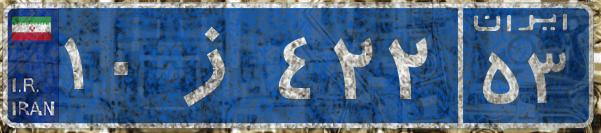0: (110, 28, 158, 105)
1: (57, 26, 110, 107)
2: (385, 28, 445, 110), (330, 28, 385, 110)
3: (525, 38, 570, 115)
4: (273, 28, 330, 110)
5: (475, 38, 525, 113)
ز: (158, 15, 273, 115)
